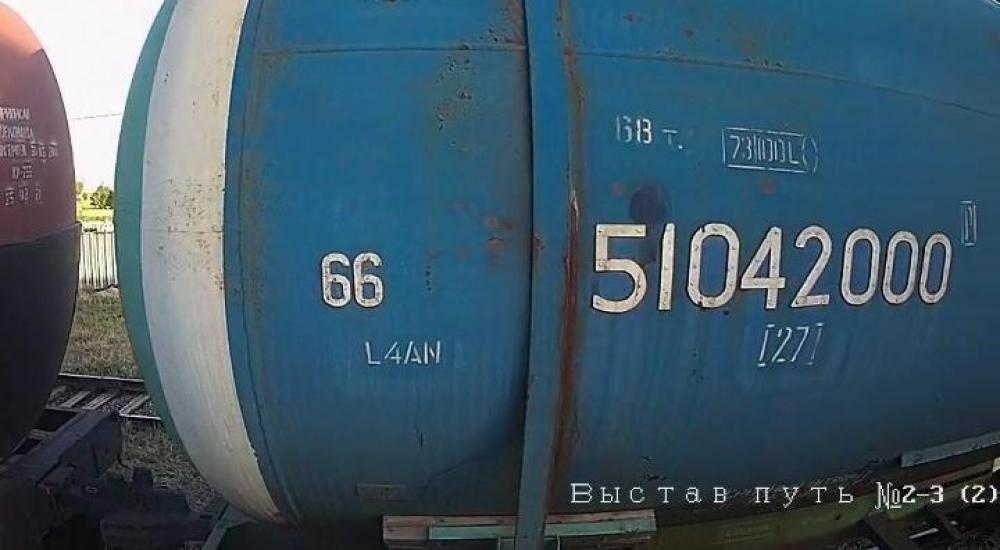Wagon-number: (584, 213, 954, 317)
